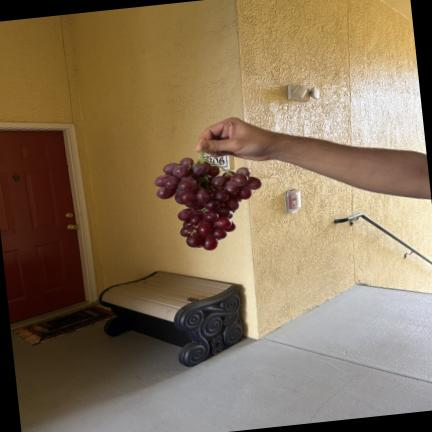grape_cluster: (155, 152, 262, 250)
